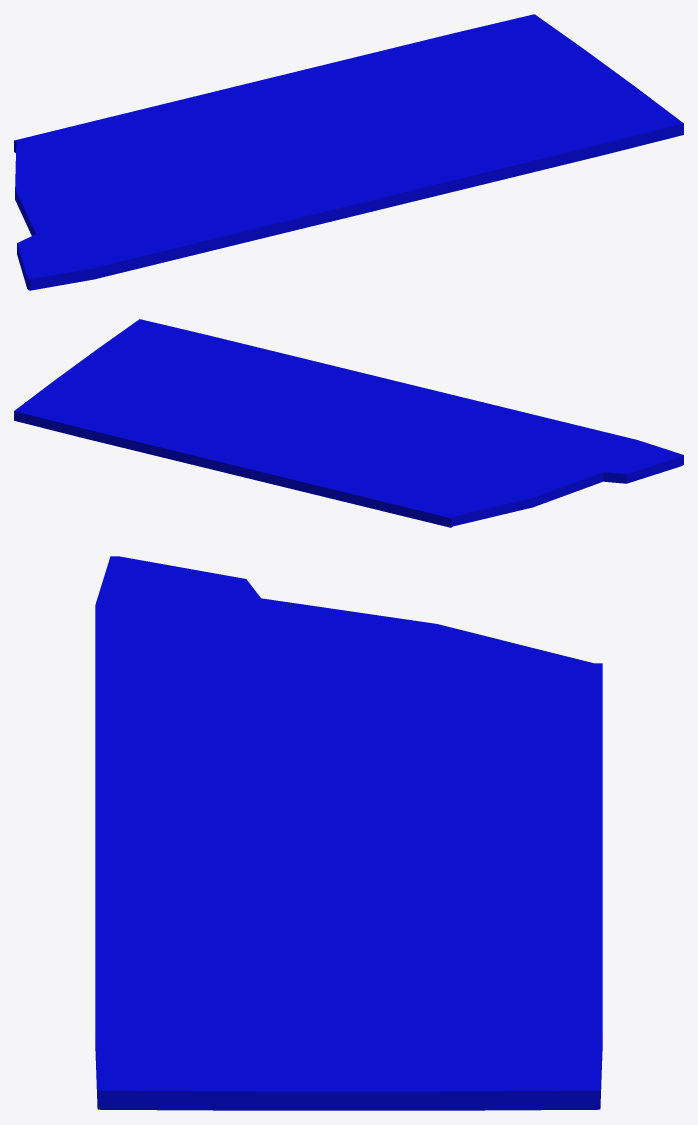
The model's file is komono23.fbx.
3 views of the same model, one above another, from view 1: azimuth 30°, elevation 25°; view 2: azimuth 150°, elevation 25°; view 3: azimuth 270°, elevation 25° (orthographic). The views are drawn at different scales.
Parts seen in each view (by area): view 1: Cube.009; view 2: Cube.009; view 3: Cube.009.
Boxes of the visible parts, bbox=[...] form: Cube.009: bbox=[14, 14, 683, 290]; Cube.009: bbox=[14, 319, 683, 527]; Cube.009: bbox=[95, 556, 602, 1110].
Bounding box in the file's own units: 222 × 3.72 × 89.
